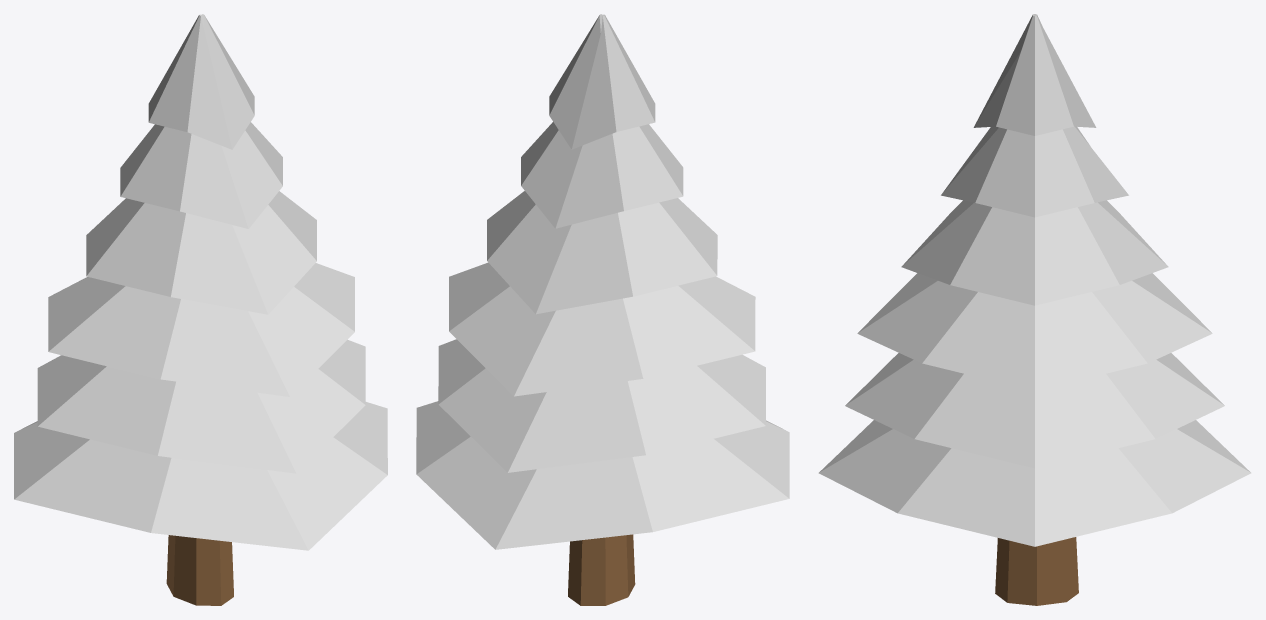
The model's file is Tree.fbx.
3 views of the same model, side by side, from view 1: azimuth 30°, elevation 25°; view 2: azimuth 150°, elevation 25°; view 3: azimuth 270°, elevation 25° (orthographic).
Visible parts, largest first — view 1: Tree; view 2: Tree; view 3: Tree.
Part boxes in pixels (x1,y1,x2,y2): Tree: (14,14,387,605); Tree: (416,14,789,605); Tree: (818,14,1251,605).
Bounding box in the file's own units: 318 × 469 × 318.
